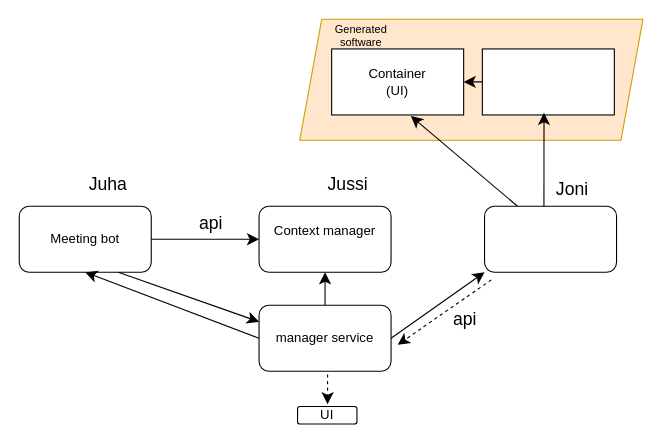
Image size: 662x443. Some labels were removed from this diagram. Each missing label, with the centre of its shape:
"Code agent" belongs at pixel 550 238.
"Container" belongs at pixel 547 81.
